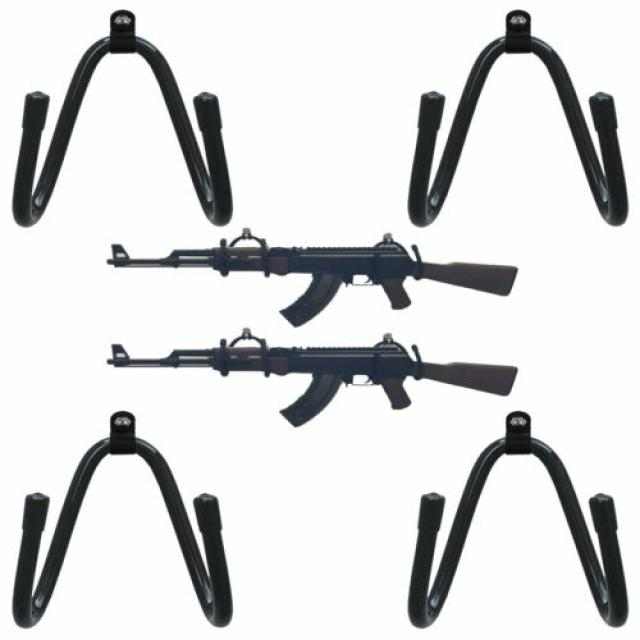Rifle: (108, 229, 520, 329), (107, 329, 519, 428)
